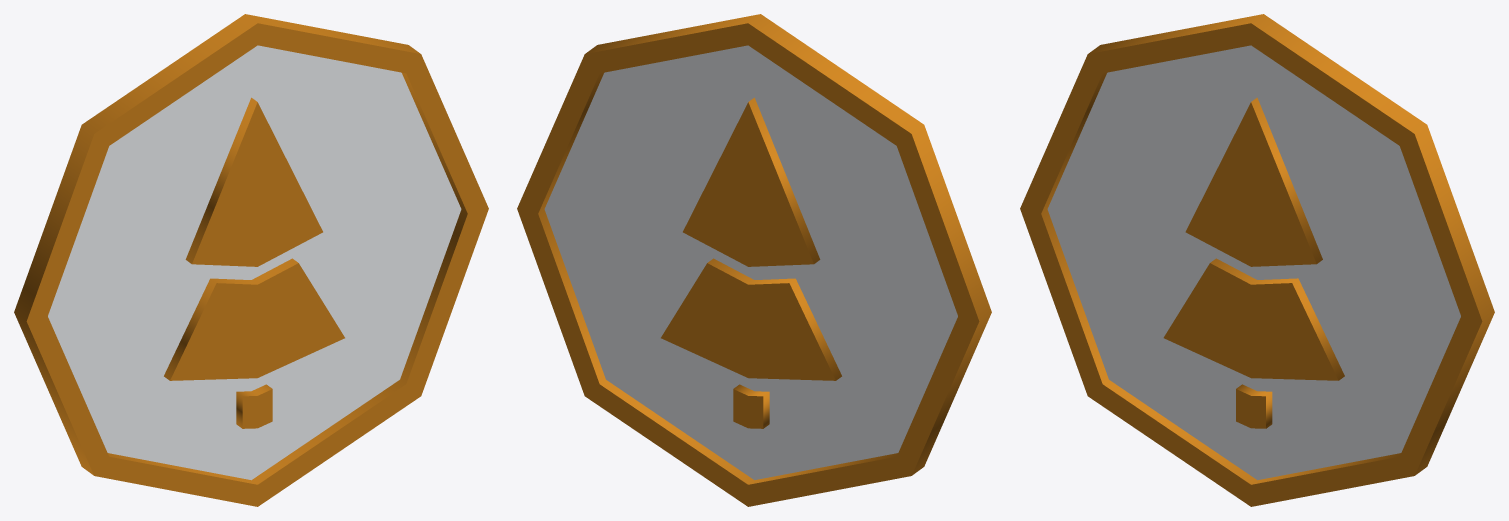
File: OverheadViewSign.glb
3 renders of one model, left to right at view 1: azimuth 30°, elevation 25°; view 2: azimuth 150°, elevation 25°; view 3: azimuth 330°, elevation 25°, orthographic.
Parts seen in each view (by area): view 1: Circle.008; view 2: Circle.008; view 3: Circle.008.
Part boxes in pixels (x1,y1,x2,y2): Circle.008: (14,14,488,506); Circle.008: (517,14,991,506); Circle.008: (1020,14,1494,506).
Bounding box in the file's own units: 0.9352 × 0.935 × 0.0442.
